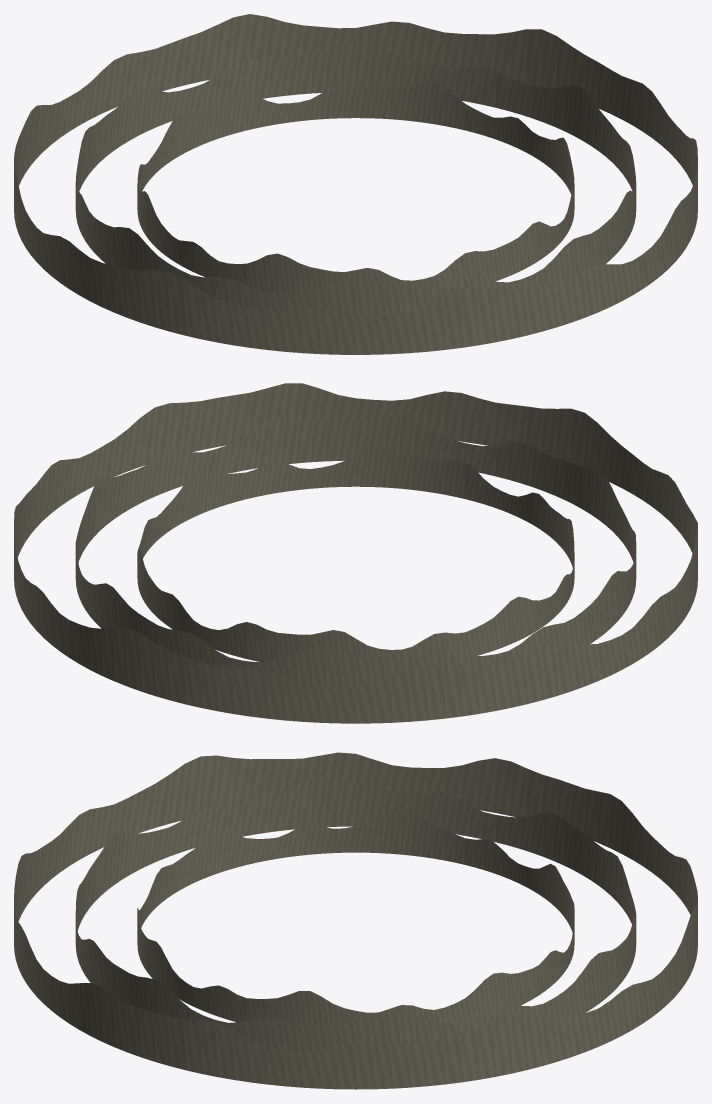
Rendered from lake_mountains.glb.
The picture shows the model from 3 angles, top to bottom: view 1: azimuth 30°, elevation 25°; view 2: azimuth 150°, elevation 25°; view 3: azimuth 270°, elevation 25°; orthographic projection.
Visible parts, largest first — view 1: lake_mountains0; view 2: lake_mountains0; view 3: lake_mountains0.
Part boxes in pixels (x1,y1,x2,y2): lake_mountains0: (14,14,697,354); lake_mountains0: (14,383,697,723); lake_mountains0: (14,752,697,1089).
Size of the model in its own units: 720 by 69.42 by 720.
Materials: 1 (1 with a texture image).
